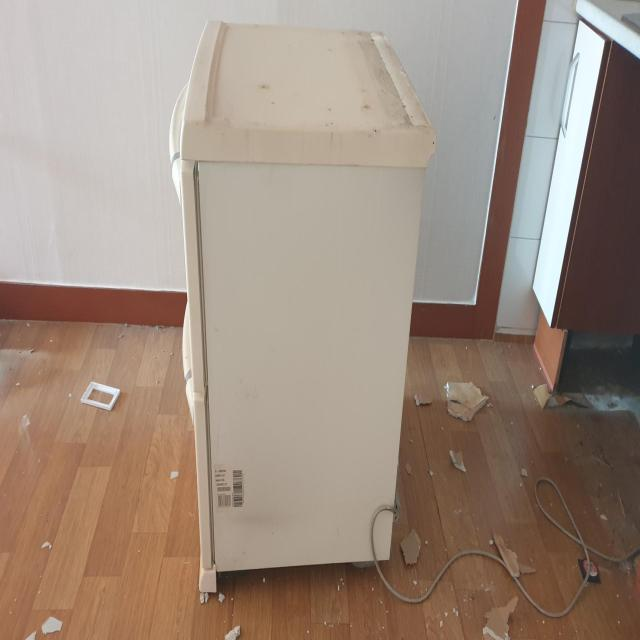refrigerator: (170, 14, 437, 596)
